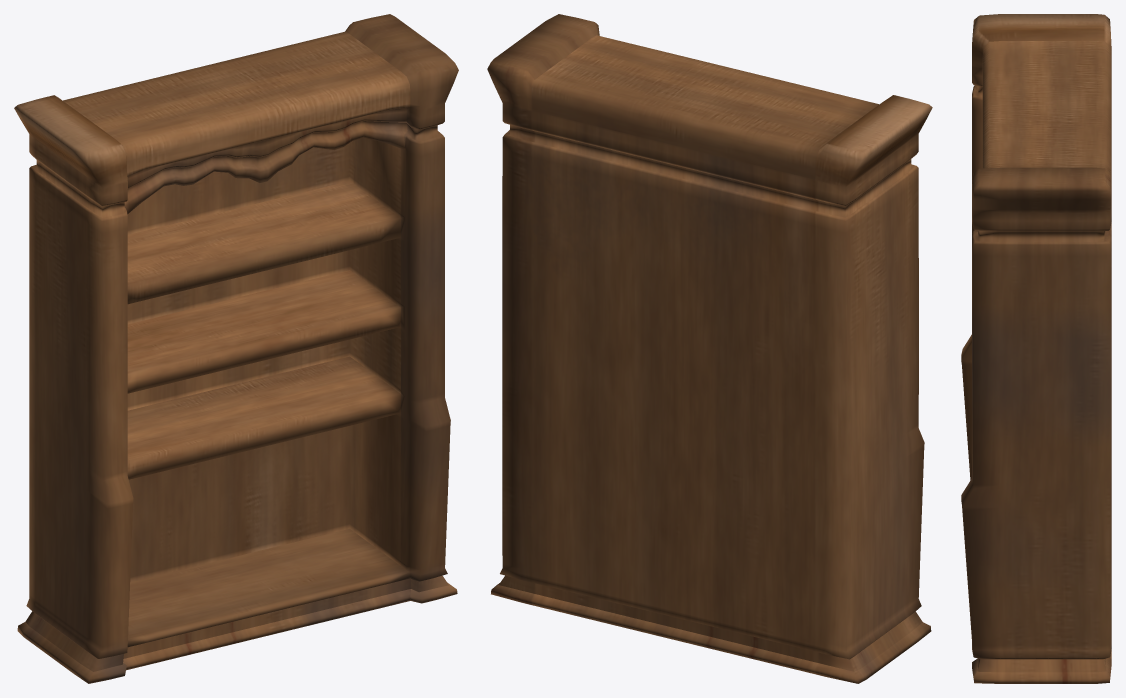
Rendered from bookshelf.fbx.
3 renders of one model, left to right at view 1: azimuth 30°, elevation 25°; view 2: azimuth 150°, elevation 25°; view 3: azimuth 270°, elevation 25°, orthographic. The views are drawn at different scales.
Parts seen in each view (by area): view 1: bookshelf; view 2: bookshelf; view 3: bookshelf.
Boxes of the visible parts, left/top/right/bottom form: bookshelf: left=14, top=14, right=458, bottom=683; bookshelf: left=487, top=14, right=932, bottom=683; bookshelf: left=961, top=14, right=1111, bottom=683.
Size of the model in its own units: 174 by 235 by 64.04.
